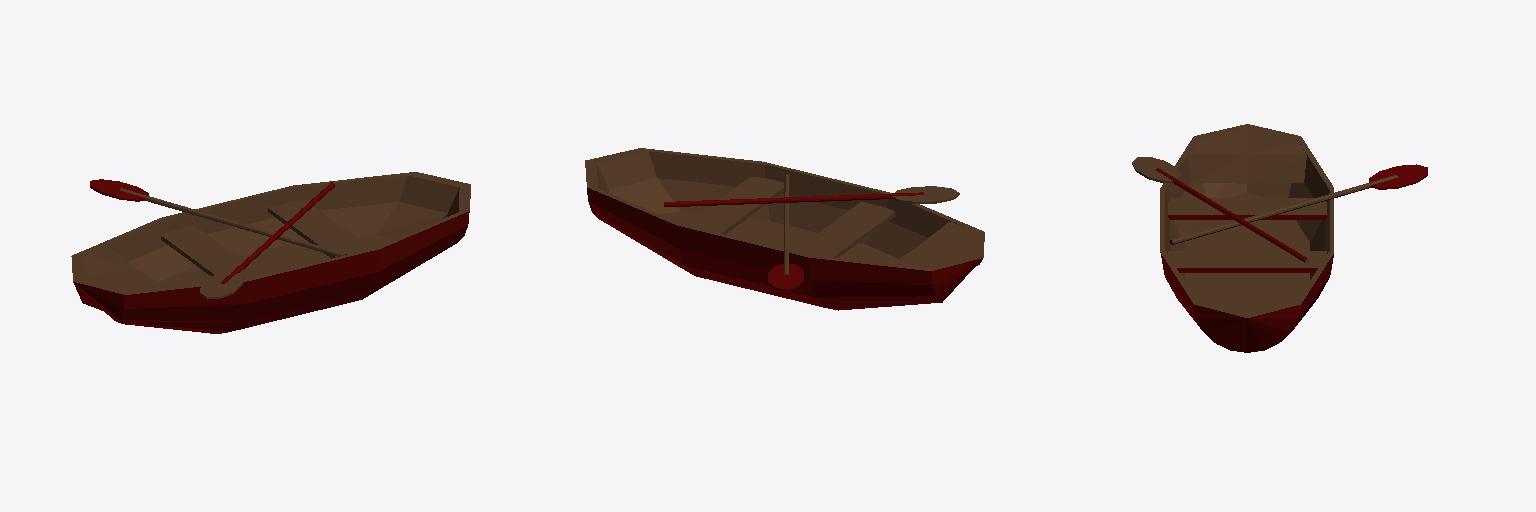
File: Rowboat_1391.obj
3 renders of one model, left to right at view 1: azimuth 30°, elevation 25°; view 2: azimuth 150°, elevation 25°; view 3: azimuth 270°, elevation 25°, orthographic.
Parts seen in each view (by area): view 1: Sphere001; view 2: Sphere001; view 3: Sphere001.
Part boxes in pixels (x1,y1,x2,y2): Sphere001: (71, 172, 470, 333); Sphere001: (585, 148, 984, 310); Sphere001: (1132, 124, 1427, 352).
Bounding box in the file's own units: 105 × 22.09 × 67.46.